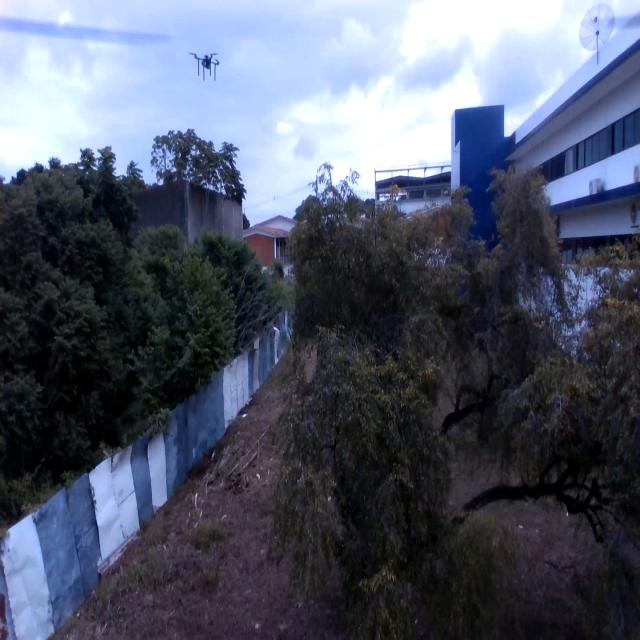-uav-: (189, 36, 224, 94)
